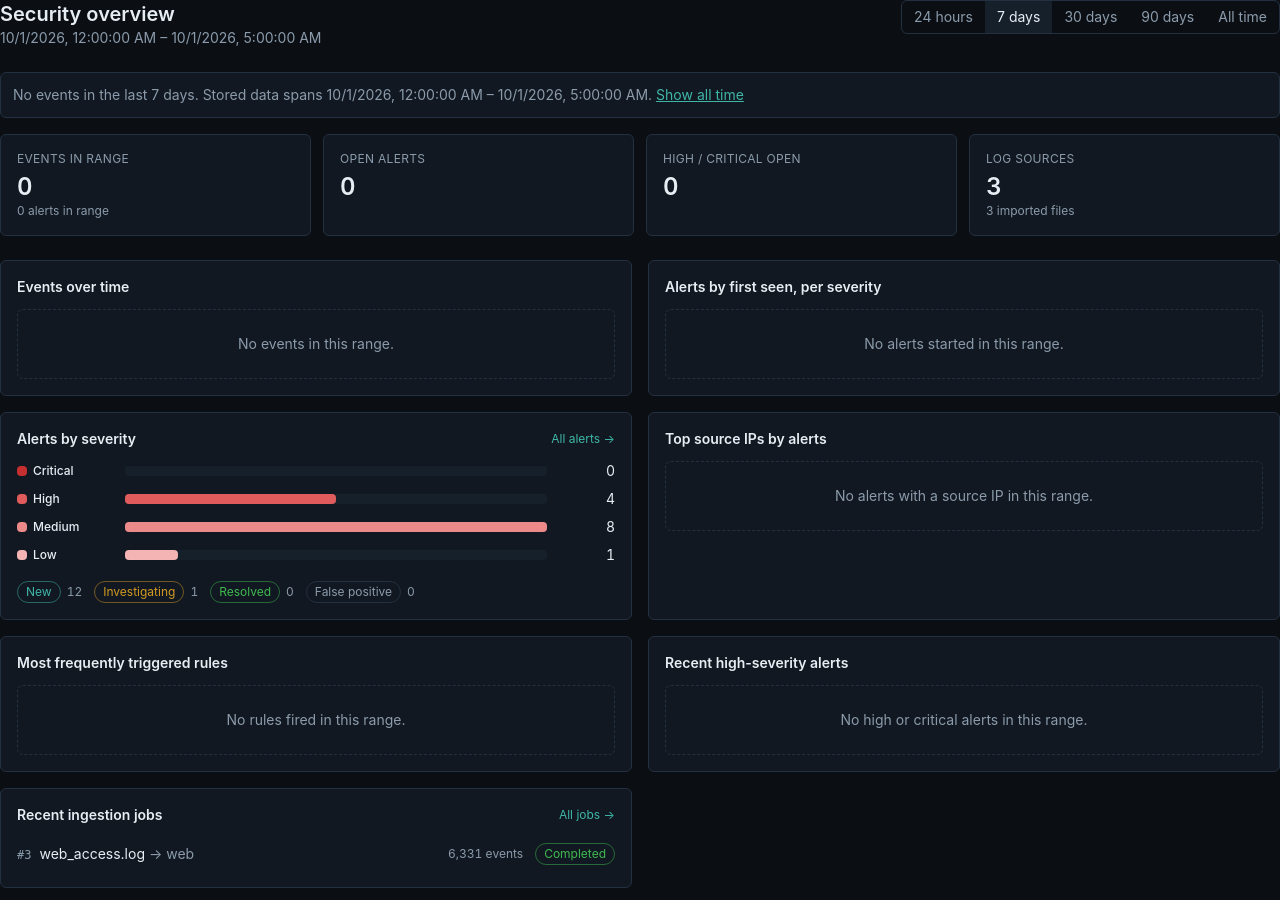
Test case: DashboardPage › offers "all time" when the range is empty but data exists
Expected: the text "No alerts with a source IP in this range." is shown, [665,461,1263,531]
Click the button "Show all time".
click(700, 95)  # box [656,85,744,105]
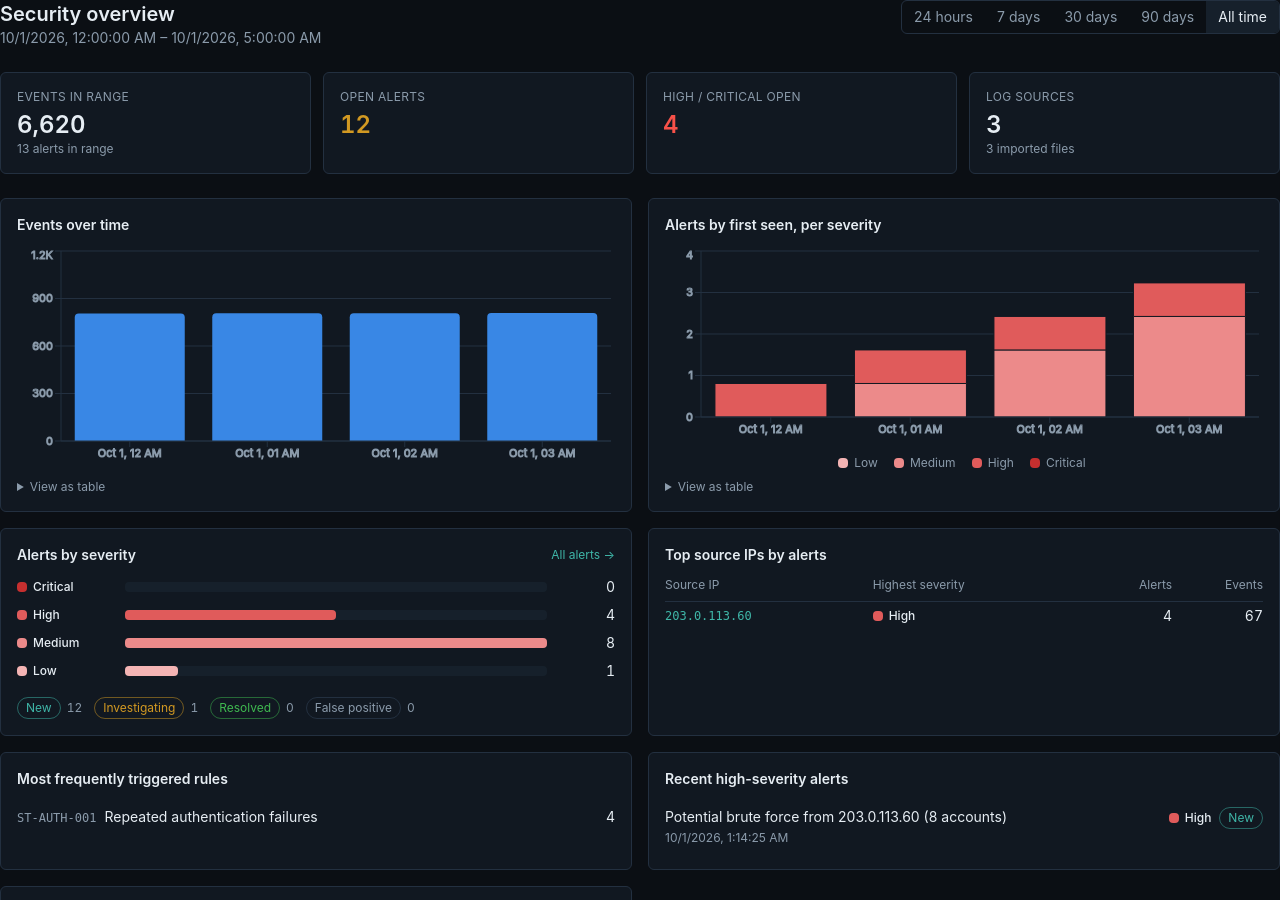
Result: the link "203.0.113.60" is shown at [665,609,752,623]
